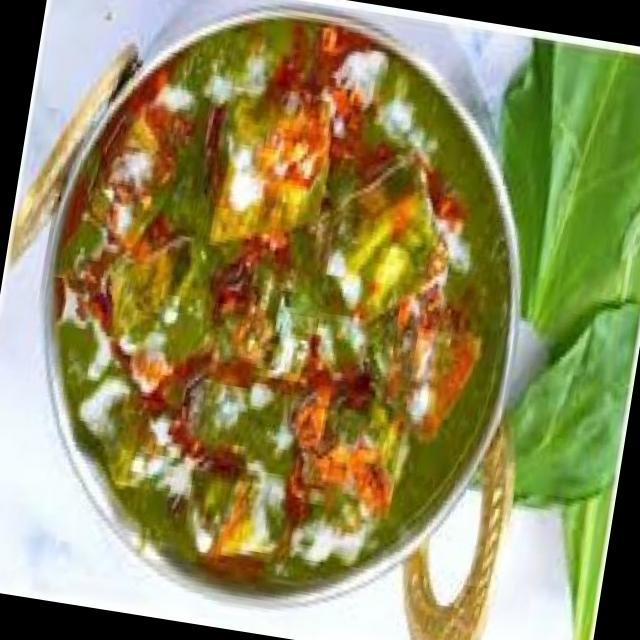palak_paneer: (11, 0, 551, 619)
